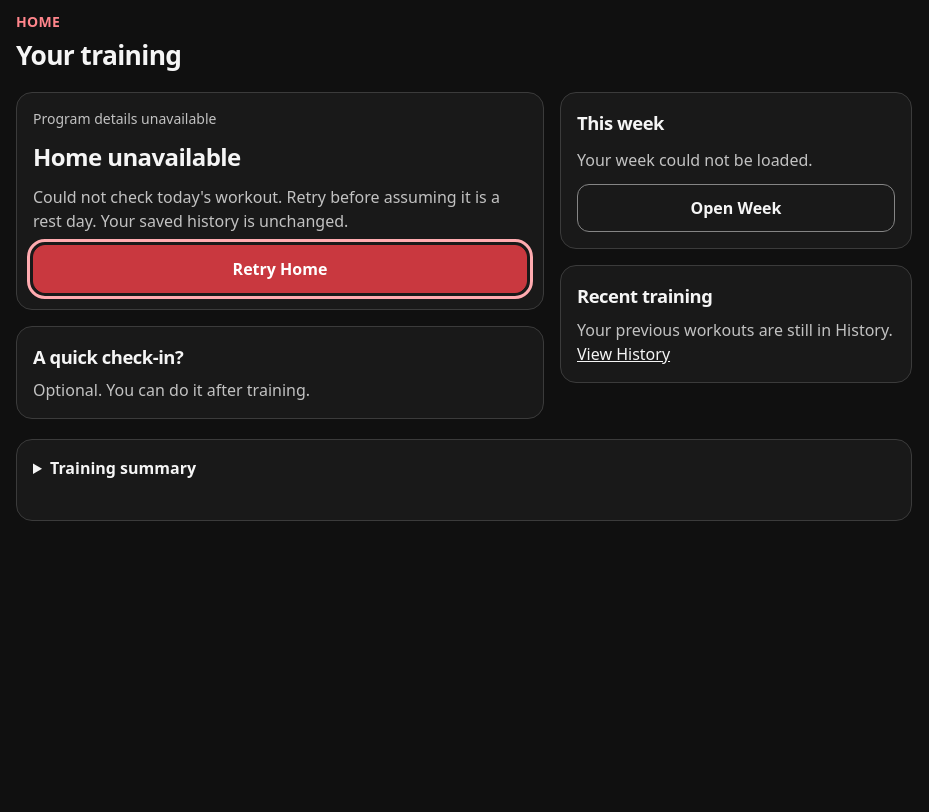
Scenario: retry remains mounted and retains focus during the next request
Click the button "Retry Home".
click(280, 269)  # box [33,245,527,293]
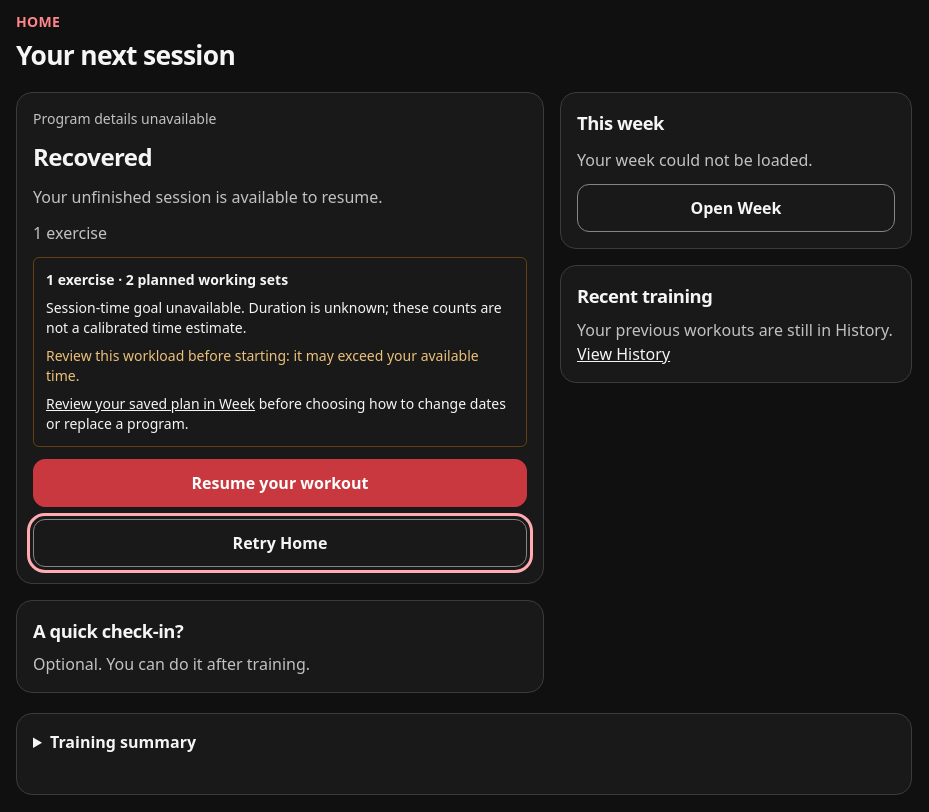
Expected: the link "Resume your workout" is shown, [33,459,527,507]
